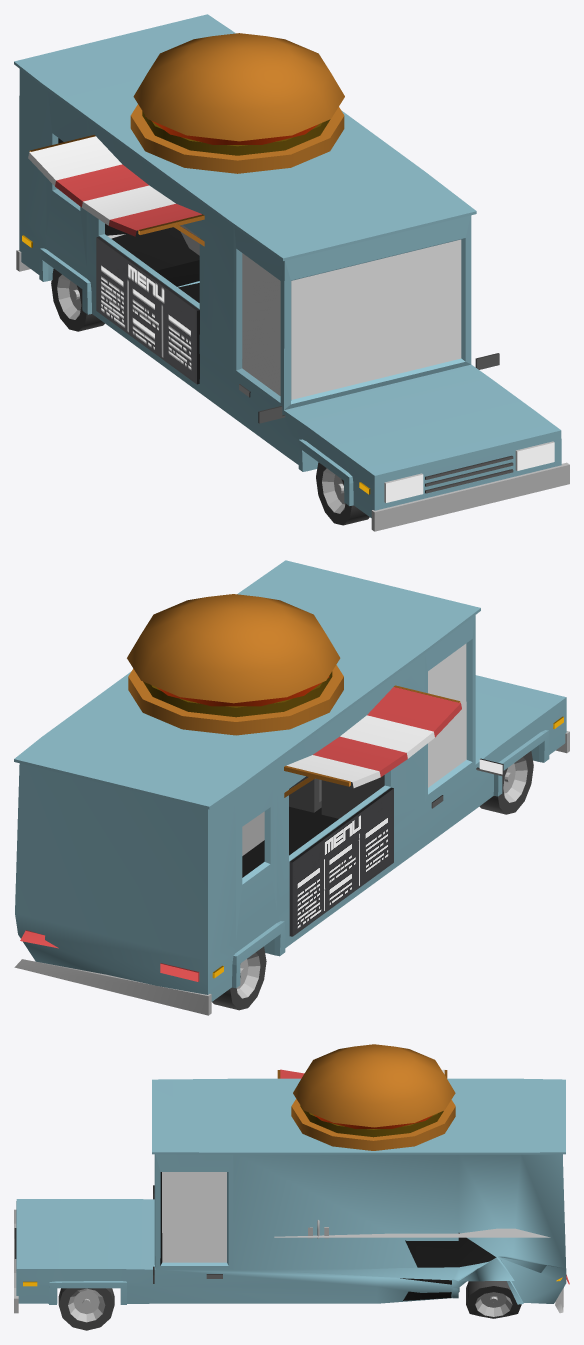
Rendered from CrashHood02.fbx.
3 renders of one model, top to bottom at view 1: azimuth 30°, elevation 25°; view 2: azimuth 150°, elevation 25°; view 3: azimuth 270°, elevation 25°, orthographic. The views are drawn at different scales.
Visible parts, largest first — view 1: Hood, Glass, Wheel_back_right, Wheel_front_right; view 2: Hood, Glass, Wheel_front_right, Wheel_back_right, Seat_right, Seat_left; view 3: Hood, Glass, Wheel_front_left, Wheel_back_left.
Part boxes in pixels (left/top/right/bottom): Hood: left=14, top=14, right=569, bottom=531; Glass: left=242, top=239, right=461, bottom=399; Wheel_back_right: left=51, top=268, right=104, bottom=331; Wheel_front_right: left=316, top=462, right=369, bottom=525; Hood: left=14, top=560, right=569, bottom=1015; Glass: left=428, top=643, right=466, bottom=787; Wheel_front_right: left=479, top=751, right=533, bottom=814; Wheel_back_right: left=212, top=946, right=266, bottom=1010; Seat_right: left=321, top=775, right=384, bottom=818; Seat_left: left=289, top=776, right=321, bottom=812; Hood: left=14, top=1044, right=569, bottom=1313; Glass: left=162, top=1172, right=226, bottom=1262; Wheel_front_left: left=58, top=1288, right=114, bottom=1330; Wheel_back_left: left=466, top=1281, right=521, bottom=1318.
Bounding box in the file's own units: 74.06 × 79.16 × 165.
